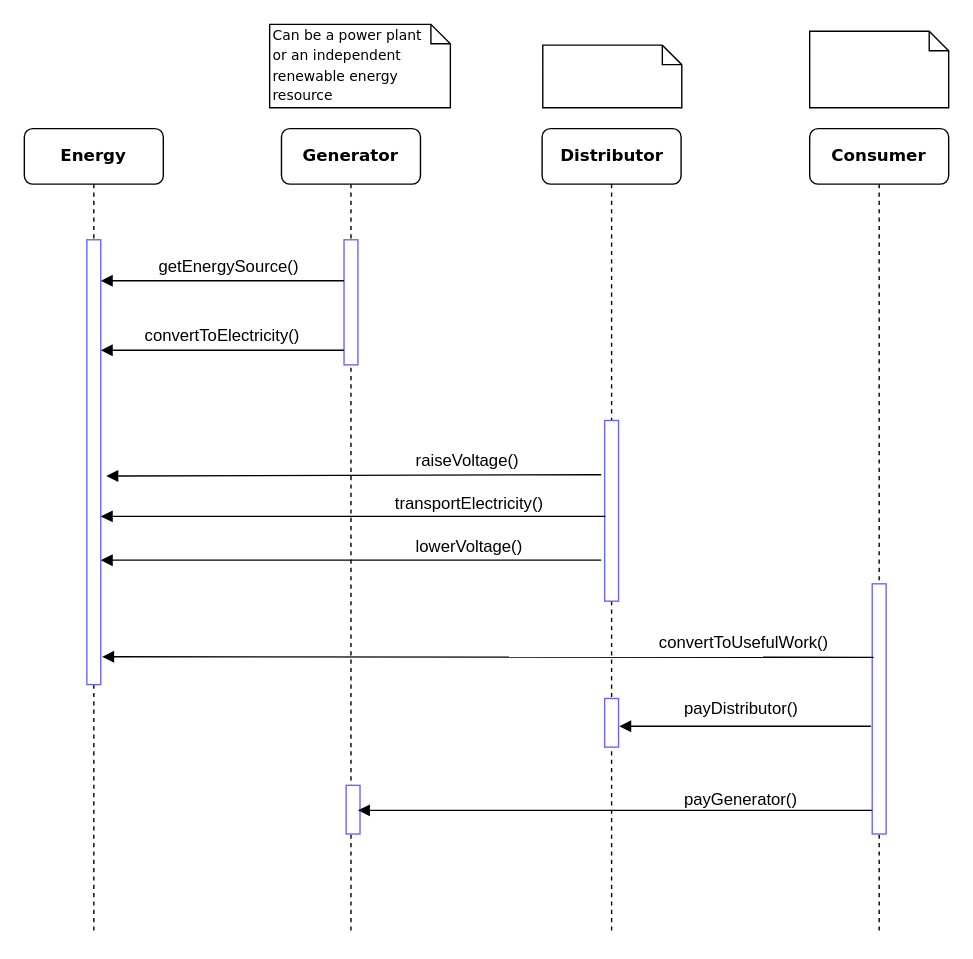
The diagram is 973 pixels wide and 959 high, and some of its shapes have lost their labels. The centre of each missing label's shape, as x and y in pixels:
Commercial or Residential Consumer: point (878, 69)
Typically federal distribution companies: point (611, 76)
